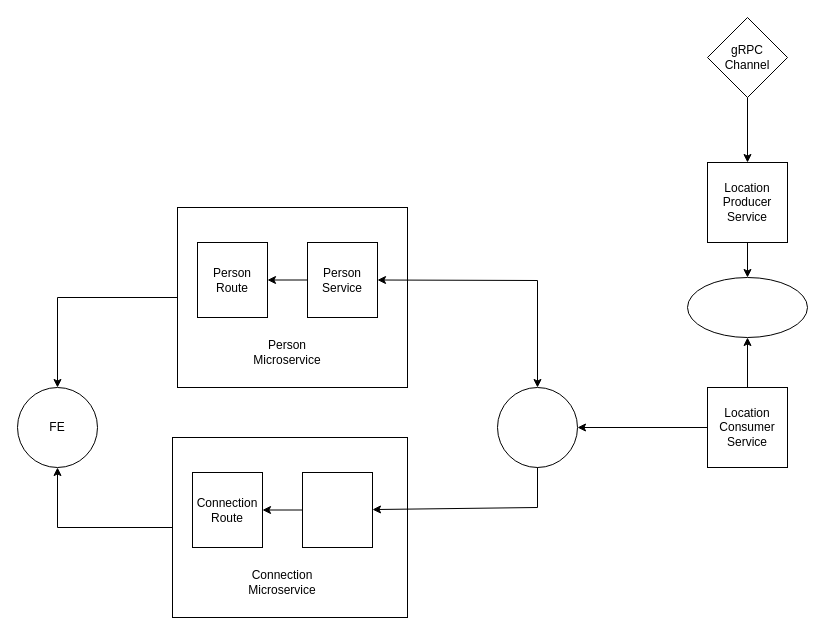
This 825x635 diagram has some shape labels left out. Here are the shapes that lost their labels. From the top down, the centre of each, then its label:
At pixel 747 307: "Kafka".
At pixel 537 427: "Database".
At pixel 337 510: "Connection Service".
